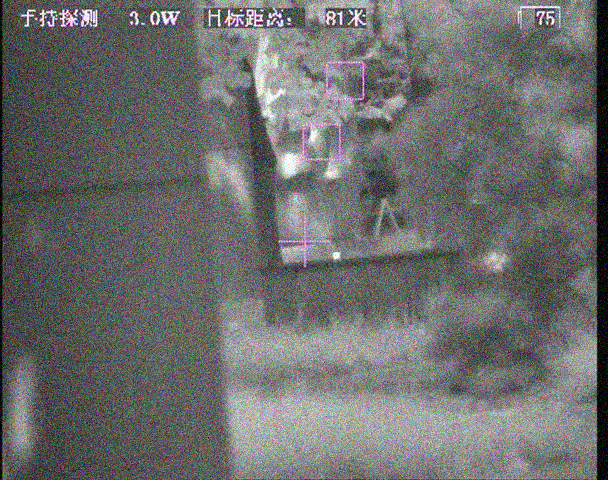my: (332, 251, 342, 260)
